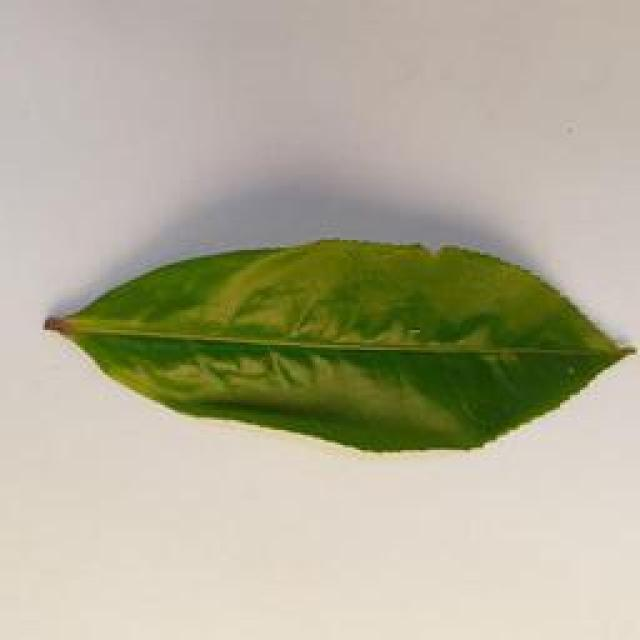Healthy: (51, 235, 638, 450)
